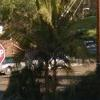Palm tree: (13, 4, 79, 81)
